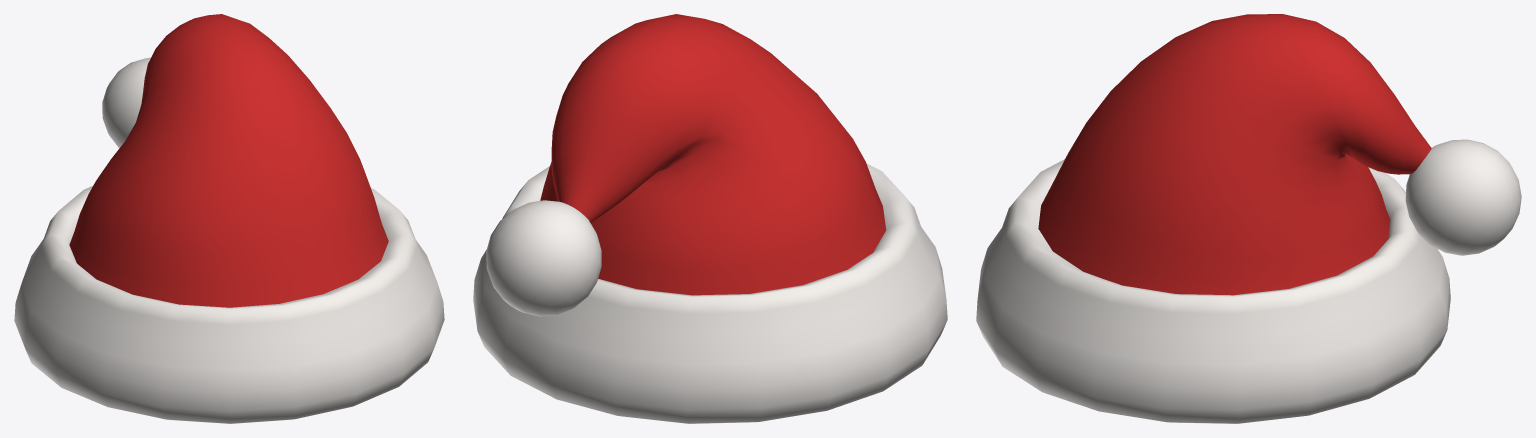
File: satanhat.fbx
3 renders of one model, left to right at view 1: azimuth 30°, elevation 25°; view 2: azimuth 150°, elevation 25°; view 3: azimuth 270°, elevation 25°, orthographic. The views are drawn at different scales.
Parts seen in each view (by area): view 1: SantaHat; view 2: SantaHat; view 3: SantaHat.
Boxes of the visible parts, x1,y1,x2,y2 form: SantaHat: [14, 14, 444, 423]; SantaHat: [473, 14, 947, 423]; SantaHat: [976, 14, 1521, 423].
Size of the model in its own units: 132 by 99.91 by 152.
